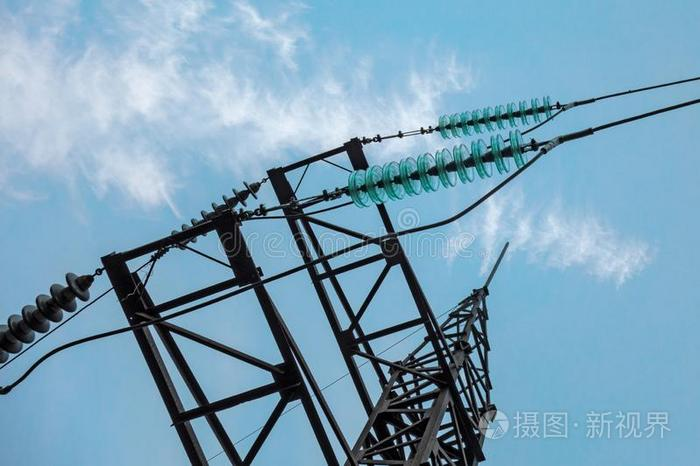insulator: (346, 131, 527, 208), (1, 268, 89, 364), (170, 177, 259, 248), (438, 95, 554, 138)
